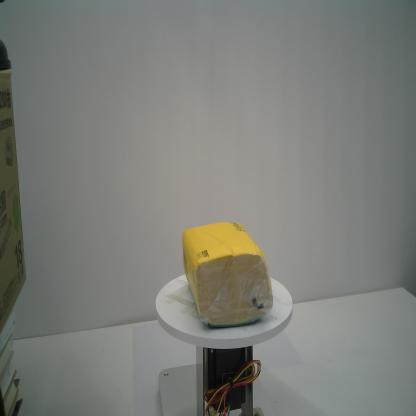Tissue: (179, 219, 274, 330)
